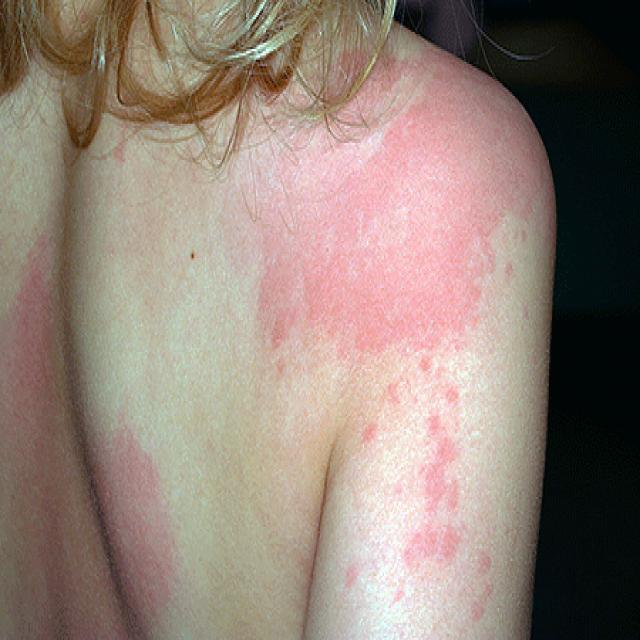hives: (233, 80, 543, 572), (0, 242, 178, 638)
